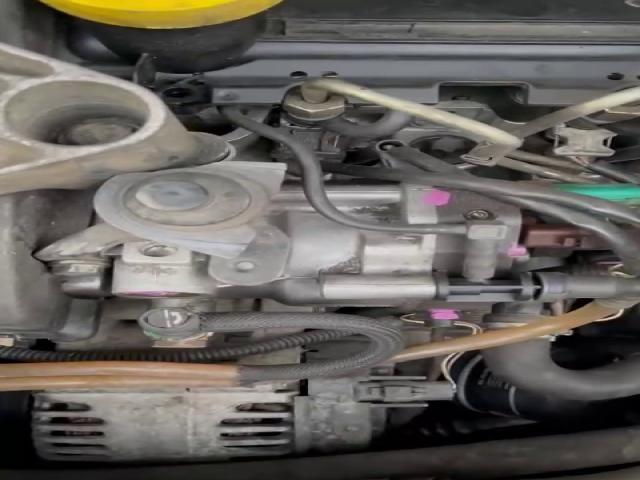alternator: (29, 367, 442, 463)
high_pressure_pump: (109, 176, 535, 323)
